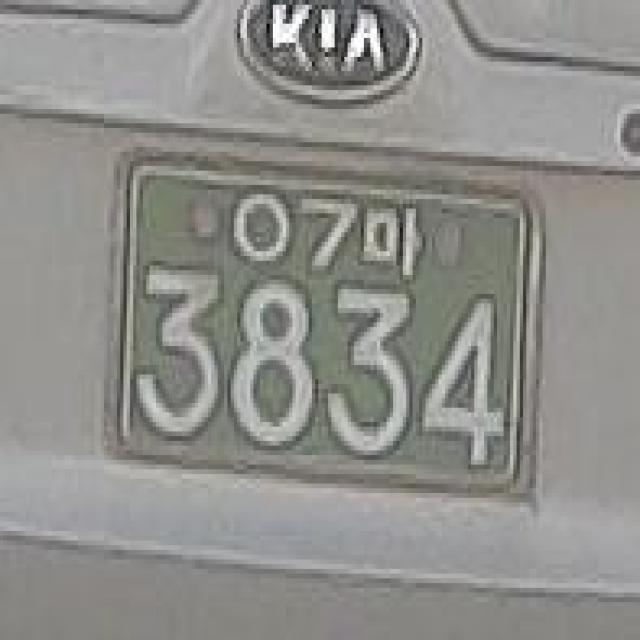illegal_plate: (92, 124, 553, 534)
